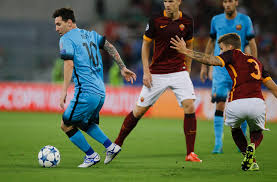soccer player: (169, 34, 276, 173), (113, 1, 203, 164), (52, 6, 138, 169), (202, 1, 257, 153)
soccerball: (36, 144, 63, 170)
